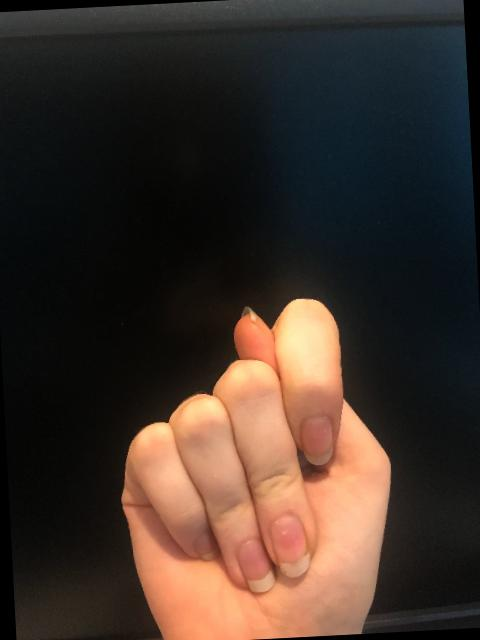T: (105, 288, 406, 640)
